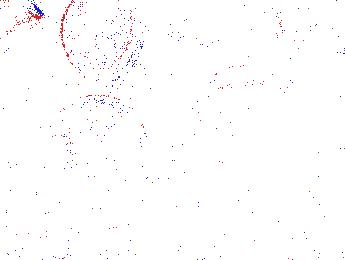moon jellyfish: (56, 94, 146, 175), (61, 1, 146, 83), (188, 65, 291, 122), (276, 1, 346, 55), (194, 11, 282, 49), (1, 1, 43, 55)
